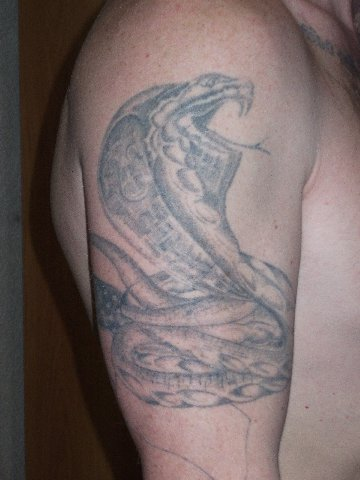tatu7_zmeya: (85, 60, 310, 426)
